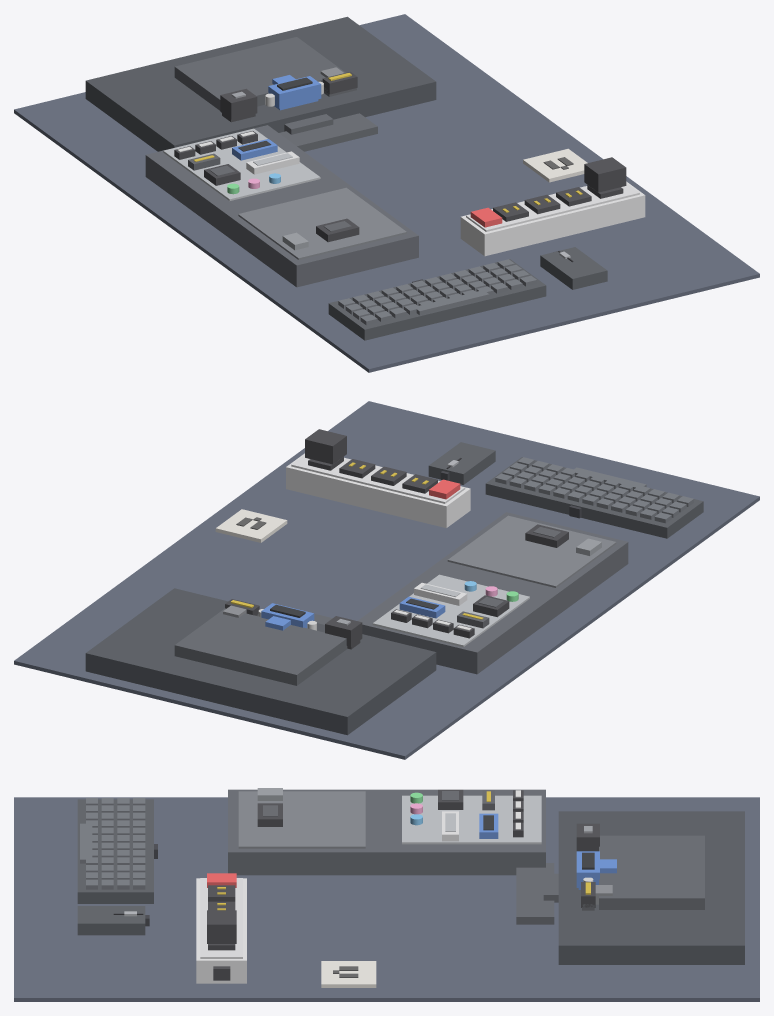
3 views of the same model, one above another, from view 1: azimuth 30°, elevation 25°; view 2: azimuth 150°, elevation 25°; view 3: azimuth 270°, elevation 25° (orthographic). The views are drawn at different scales.
Parts seen in each view (by area): view 1: c2a3040, c1f2227, c2c2f36, c2a2d33, c1a1a1d, c474b53, c3a3e46, c23262b, ce9e9ec, c9aa0a8, c2f5bd1, cdedee3 (+2 smaller); view 2: c2a3040, c1f2227, c2c2f36, c2a2d33, c474b53, c3a3e46, c1a1a1d, c23262b, ce9e9ec, c9aa0a8, cdedee3, cefe9dd (+2 smaller); view 3: c2a3040, c1f2227, c2c2f36, c2a2d33, c474b53, c23262b, c9aa0a8, c3a3e46, c1a1a1d, ce9e9ec, cdedee3, cefe9dd (+4 smaller).
Boxes of the visible parts, x1=… form: c2a3040: x1=14, y1=14, x2=759, y2=372; c1f2227: x1=85, y1=16, x2=436, y2=151; c2c2f36: x1=145, y1=125, x2=418, y2=287; c2a2d33: x1=174, y1=37, x2=377, y2=151; c1a1a1d: x1=174, y1=71, x2=626, y2=242; c474b53: x1=238, y1=187, x2=406, y2=259; c3a3e46: x1=338, y1=259, x2=536, y2=325; c23262b: x1=328, y1=247, x2=607, y2=340; ce9e9ec: x1=460, y1=181, x2=645, y2=256; c9aa0a8: x1=163, y1=128, x2=320, y2=200; c2f5bd1: x1=232, y1=75, x2=321, y2=160; cdedee3: x1=466, y1=183, x2=639, y2=231; c2a3040: x1=14, y1=401, x2=759, y2=759; c1f2227: x1=85, y1=588, x2=436, y2=735; c2c2f36: x1=358, y1=512, x2=628, y2=674; c2a2d33: x1=174, y1=608, x2=347, y2=685; c474b53: x1=447, y1=515, x2=616, y2=587; c3a3e46: x1=495, y1=457, x2=693, y2=523; c1a1a1d: x1=225, y1=429, x2=568, y2=649; c23262b: x1=428, y1=442, x2=703, y2=538; ce9e9ec: x1=286, y1=453, x2=470, y2=528; c9aa0a8: x1=372, y1=574, x2=529, y2=646; cdedee3: x1=291, y1=455, x2=465, y2=503; cefe9dd: x1=215, y1=509, x2=287, y2=542; c2a3040: x1=14, y1=797, x2=759, y2=1001; c1f2227: x1=558, y1=811, x2=744, y2=964; c2c2f36: x1=228, y1=789, x2=545, y2=875; c2a2d33: x1=516, y1=835, x2=704, y2=924; c474b53: x1=238, y1=791, x2=365, y2=848; c23262b: x1=77, y1=799, x2=153, y2=935; c9aa0a8: x1=402, y1=795, x2=541, y2=844; c3a3e46: x1=80, y1=798, x2=145, y2=889; c1a1a1d: x1=207, y1=789, x2=599, y2=980; ce9e9ec: x1=196, y1=878, x2=246, y2=983; cdedee3: x1=200, y1=878, x2=242, y2=958; cefe9dd: x1=321, y1=961, x2=376, y2=987.
Size of the model in its own units: 224 by 29 by 352.
